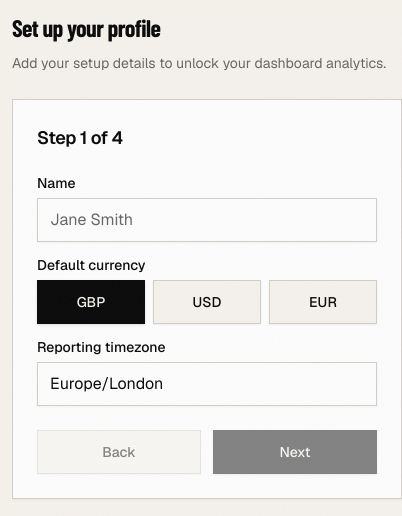
Test case: ProfileSetupFlow mobile step validation › chairRent step (step 2) › enables Next button after selecting No
Step 1. Type "Test User" into the field labelled "Name" → (207, 220), box top-left (37, 198), bottom-right (377, 242)
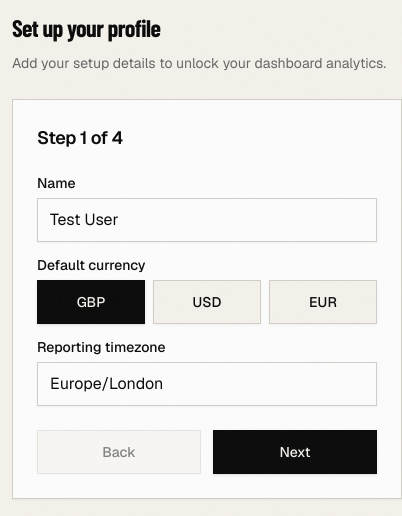
Step 2. Click the button with test id "mobile-next" → (295, 452), box top-left (213, 430), bottom-right (377, 474)
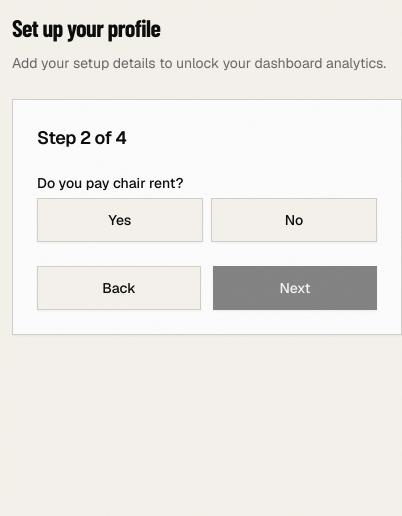
Step 3. Click the button "No" → (294, 220), box top-left (211, 198), bottom-right (377, 242)
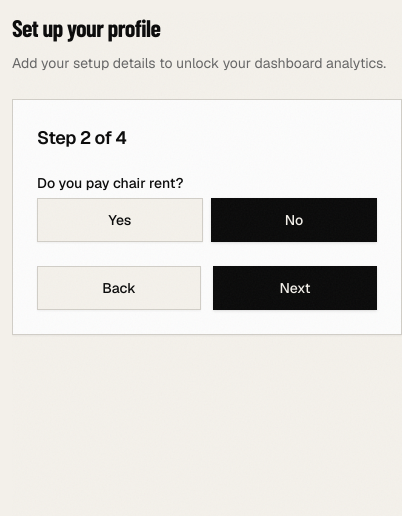
Expected: the button with test id "mobile-next" is enabled, top-left (213, 266), bottom-right (377, 310)
